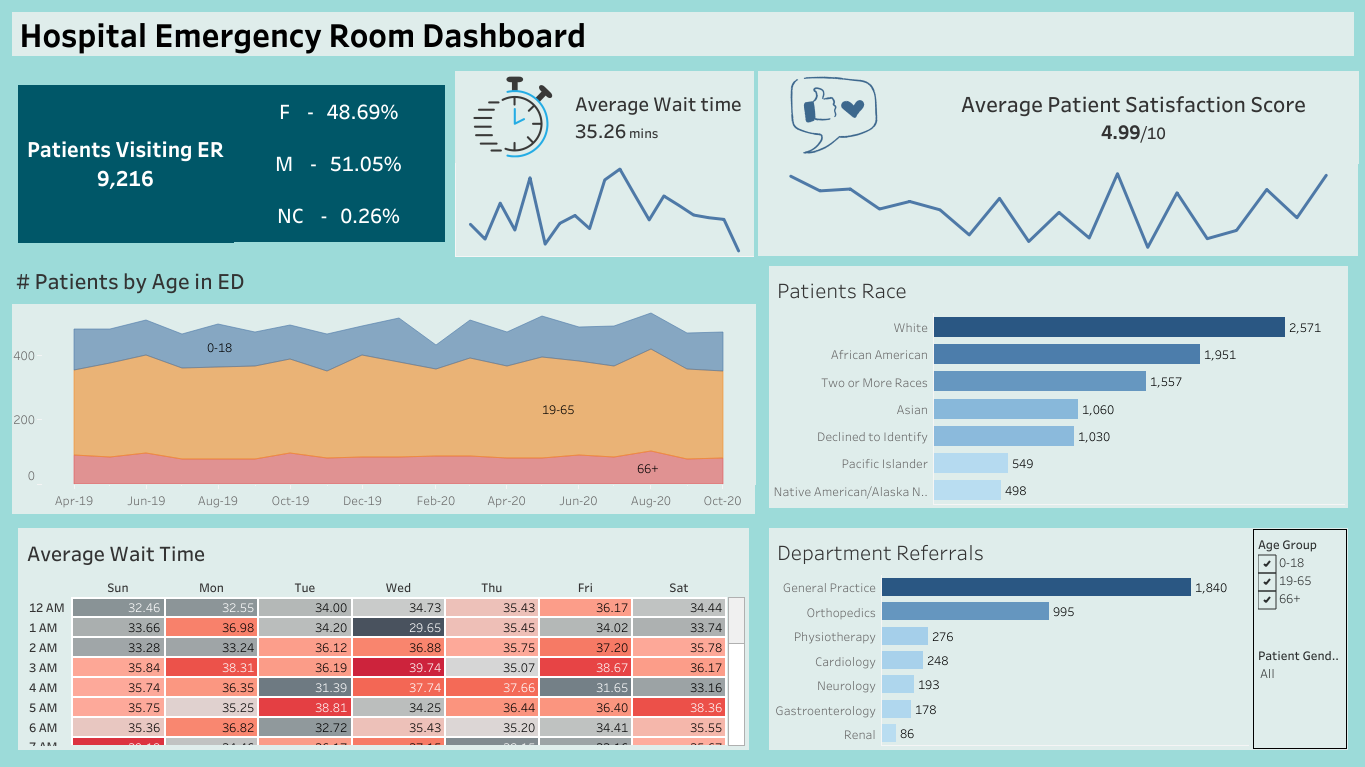

This screenshot's page, from the dashboard's own definition file:
{"tool":"tableau","page":{"name":"Dashboard 1","canvas":[1366,768],"ordinal":0},"visuals":[{"type":"text","box":[8,8,1350,52]},{"type":"image","param":"Image/imageedit_1_5535879904.png","box":[454.9,71,116,92.5]},{"type":"worksheet","title":"Average Wait time","mark":"Automatic","box":[571,71,182,92.5]},{"type":"image","param":"Image/imageedit_5_6050607708.png","box":[758,71,152,92.5]},{"type":"worksheet","title":"Average Sat score","mark":"Automatic","box":[909.9,71,448,92.5]},{"type":"worksheet","title":"# Pats ED","mark":"Automatic","box":[18,81,216,165]},{"type":"worksheet","title":"Gender","mark":"Automatic","rows":["patient_gender"],"box":[234,81,210.9,165]},{"type":"worksheet","title":"Pats Waittime","mark":"Automatic","rows":["patient_waittime"],"cols":["date"],"box":[454.9,163.5,298,92.5]},{"type":"worksheet","title":"Pats Satisfaction","mark":"Automatic","rows":["patient_sat_score"],"cols":["date"],"box":[758,163.5,600,92.5]},{"type":"worksheet","title":"# Patients by Age","mark":"Area","rows":["patient_id"],"cols":["date"],"box":[8,256,751.4,262.5]},{"type":"worksheet","title":"Patients Race","mark":"Automatic","rows":["patient_race"],"cols":["patient_id"],"box":[769.4,266,578.6,242]},{"type":"worksheet","title":"Department Referrals","mark":"Automatic","rows":["department_referral"],"cols":["patient_id"],"box":[769.4,528,482.6,222]},{"type":"worksheet","title":"Heatmap","mark":"Square","rows":["date"],"cols":["date"],"box":[18,528.5,731.4,221.5]},{"type":"filter","title":"# Patients by Age","param":"[federated.0y8prir1hj0k6s1bbw97j12wvy9r].[none:Calculation_604608295003889665:nk","box":[1254,530,92,111]},{"type":"filter","title":"Heatmap","param":"[federated.0y8prir1hj0k6s1bbw97j12wvy9r].[Action (Patient Gender)]","box":[1254,641,92,107]}]}

Visuals, with their boxes in screenshot pixels (x1, y1, x2, y2), scaled from the page's 1366x768 canvas onto the 1365x767 screenshot:
text: select_region(8, 8, 1357, 60)
image: select_region(455, 71, 570, 163)
"Average Wait time" worksheet: select_region(571, 71, 752, 163)
image: select_region(757, 71, 909, 163)
"Average Sat score" worksheet: select_region(909, 71, 1357, 163)
"# Pats ED" worksheet: select_region(18, 81, 234, 246)
"Gender" worksheet: select_region(234, 81, 445, 246)
"Pats Waittime" worksheet: select_region(455, 163, 752, 256)
"Pats Satisfaction" worksheet: select_region(757, 163, 1357, 256)
"# Patients by Age" worksheet (Area marks): select_region(8, 256, 759, 518)
"Patients Race" worksheet: select_region(769, 266, 1347, 507)
"Department Referrals" worksheet: select_region(769, 527, 1251, 749)
"Heatmap" worksheet (Square marks): select_region(18, 528, 749, 749)
"# Patients by Age" filter: select_region(1253, 529, 1345, 640)
"Heatmap" filter: select_region(1253, 640, 1345, 747)
